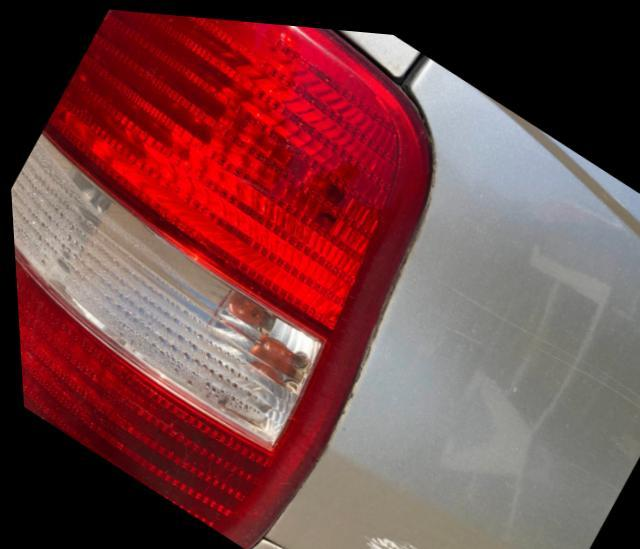scratch: (357, 529, 435, 549)
